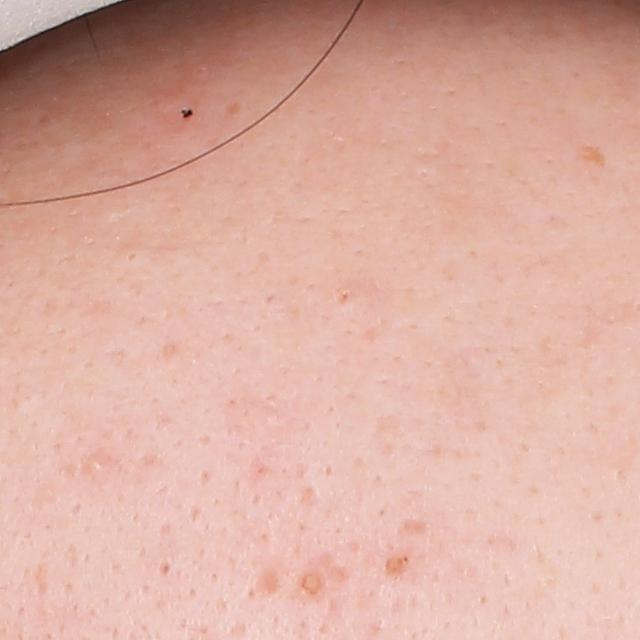atrophic_scar: (393, 512, 441, 546), (255, 565, 286, 601)
comedo: (293, 567, 329, 598), (152, 553, 179, 581), (330, 285, 359, 308), (84, 452, 106, 478), (119, 245, 145, 264)
